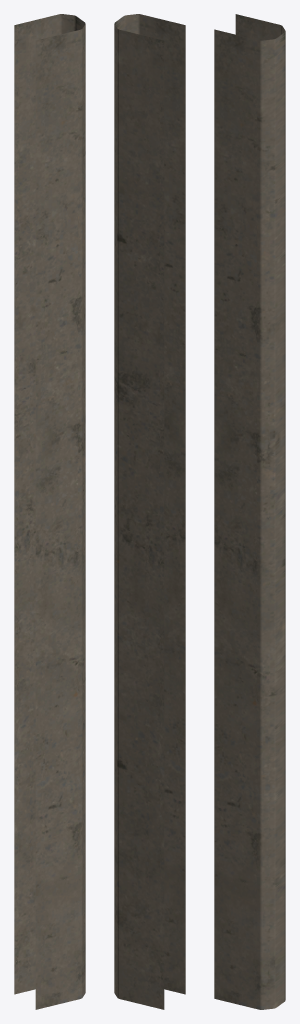
File: cP_GardenLiner01_Straight_Plain.dae
3 renders of one model, left to right at view 1: azimuth 30°, elevation 25°; view 2: azimuth 150°, elevation 25°; view 3: azimuth 330°, elevation 25°, orthographic.
Visible parts, largest first — view 1: cP_GardenLiner01_Straight_Plain.001; view 2: cP_GardenLiner01_Straight_Plain.001; view 3: cP_GardenLiner01_Straight_Plain.001.
Boxes of the visible parts, box(x1,y1,x2,y2) form: cP_GardenLiner01_Straight_Plain.001: box(14, 14, 85, 1009); cP_GardenLiner01_Straight_Plain.001: box(114, 14, 185, 1009); cP_GardenLiner01_Straight_Plain.001: box(214, 14, 285, 1009).
Bounding box in the file's own units: 0.2272 × 0.1493 × 3.78.
